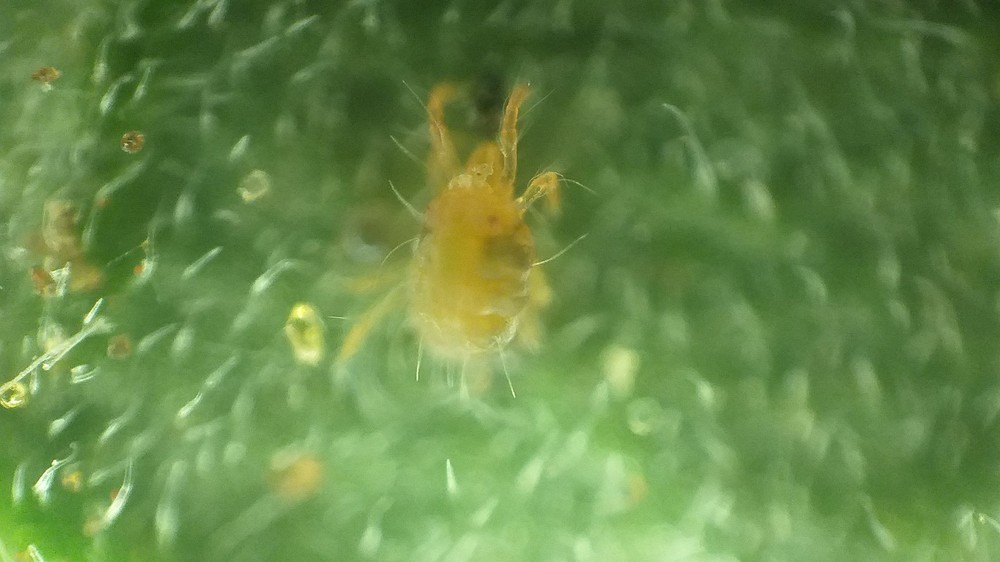Aracnido Rojo: (326, 68, 597, 434)
